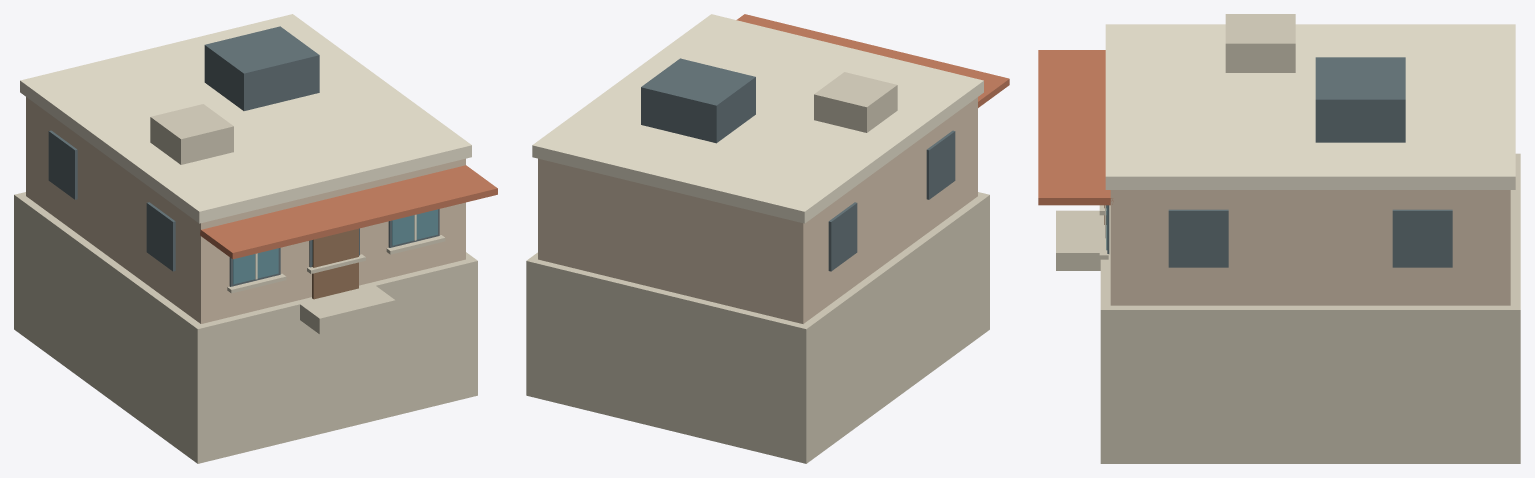
The model's file is shop-3.glb.
3 renders of one model, left to right at view 1: azimuth 30°, elevation 25°; view 2: azimuth 150°, elevation 25°; view 3: azimuth 270°, elevation 25°, orthographic. The views are drawn at different scales.
Bounding box in the file's own units: 7.4 × 7.25 × 9.65.
